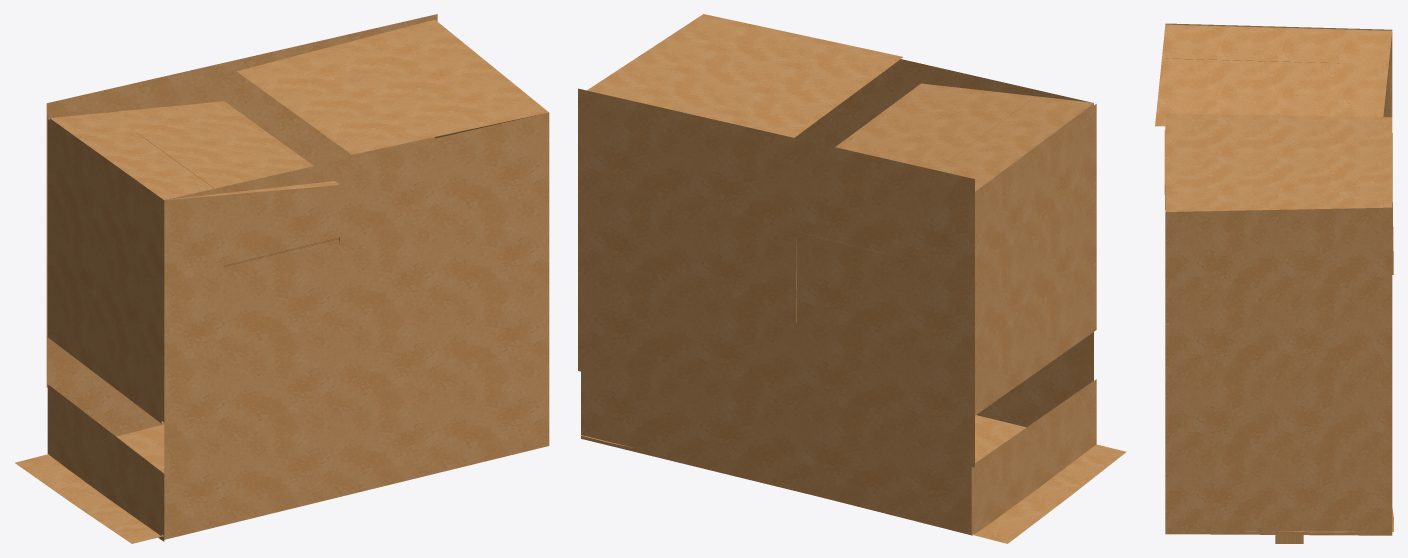
The model's file is zonaqrota.fbx.
The picture shows the model from 3 angles, left to right: view 1: azimuth 30°, elevation 25°; view 2: azimuth 150°, elevation 25°; view 3: azimuth 270°, elevation 25°; orthographic projection. The views are drawn at different scales.
Parts seen in each view (by area): view 1: parteqgira; view 2: parteqgira; view 3: parteqgira.
Part boxes in pixels (x1,y1,x2,y2): parteqgira: (15,14,549,543); parteqgira: (578,14,1126,543); parteqgira: (1155,23,1393,543).
Size of the model in its own units: 6652 by 5614 by 3367.
